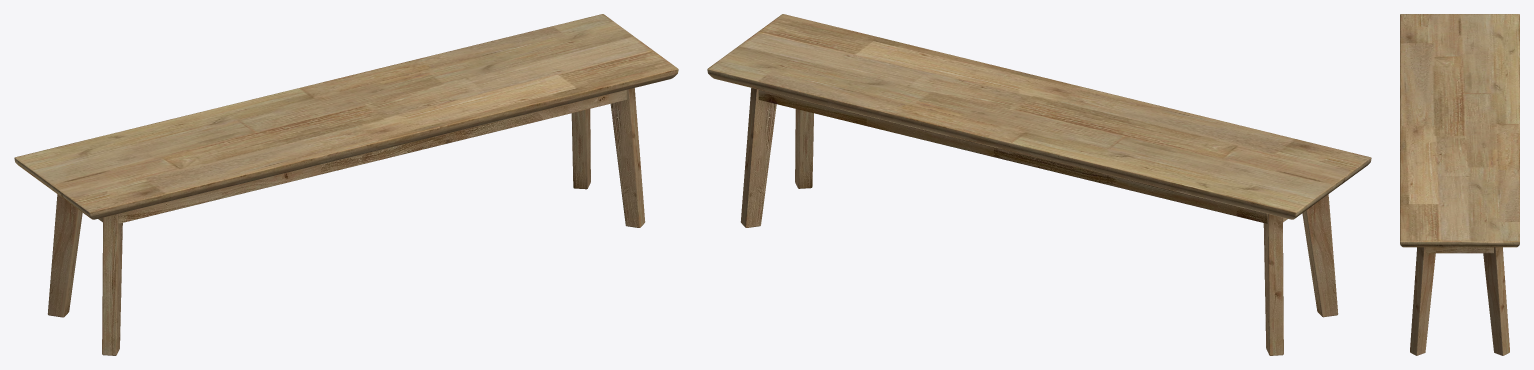
Rendered from bench_abo_B07HSBDCX8.glb.
3 views of the same model, side by side, from view 1: azimuth 30°, elevation 25°; view 2: azimuth 150°, elevation 25°; view 3: azimuth 270°, elevation 25° (orthographic). The views are drawn at different scales.
Visible parts, largest first — view 1: RootNode; view 2: RootNode; view 3: RootNode.
Boxes of the visible parts, x1,y1,x2,y2 form: RootNode: (14,14,678,355); RootNode: (707,14,1371,355); RootNode: (1400,14,1519,355).
Size of the model in its own units: 1.7 by 0.4307 by 0.3778.
1 material, 1 textured.
